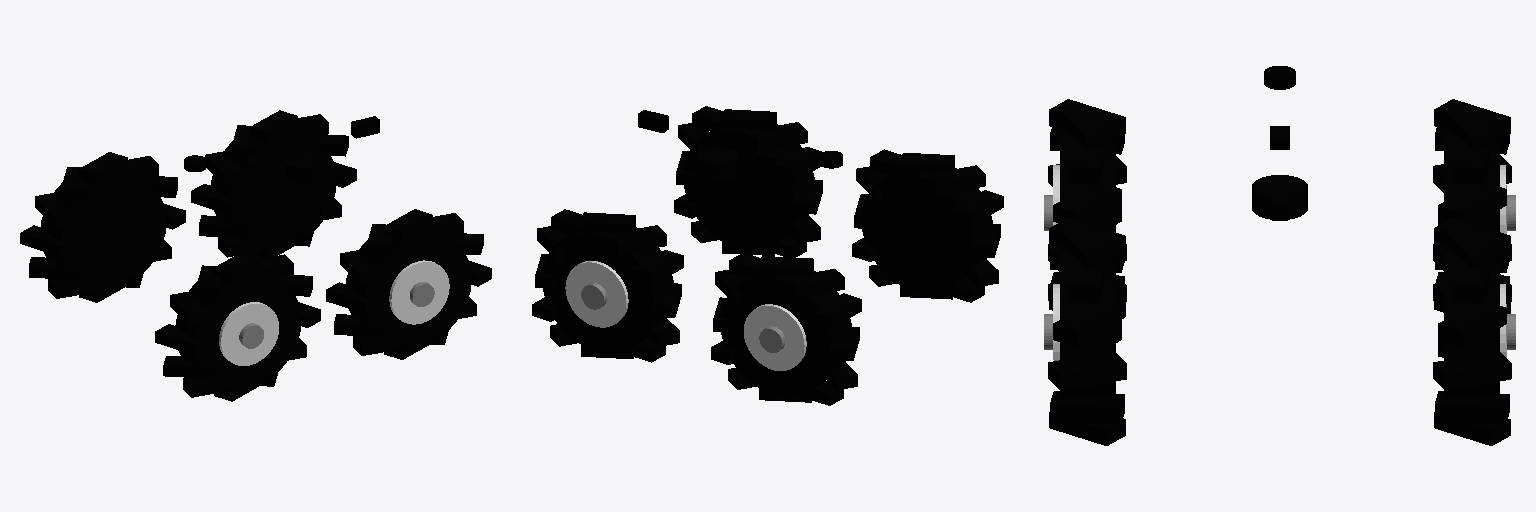
URDF robot description (agrobot):
<?xml version="1.0"?>

<robot name="agrobot">

  <material name="aluminium">
    <color rgba="0.55 0.55 0.55 1"/>
  </material>

  <material name="black">
    <color rgba="0.02 0.02 0.02 1"/>
  </material>

  <material name="white">
    <color rgba="0.85 0.85 0.85 1"/>
  </material>

  <!-- CHASSIS REAL DO CAD -->
  <link name="base_link">
    <visual>
      <origin xyz="-0.5 -0.25 0.05" rpy="0 0 0"/>
      <geometry>
        <mesh filename="file:///home/fabio/husky_ws/src/agrobot_description/meshes/chassis.stl"
              scale="0.001 0.001 0.001"/>
      </geometry>
      <material name="aluminium"/>
    </visual>

    <collision>
      <origin xyz="0 0 0.20"/>
      <geometry>
        <box size="1.2 0.8 0.35"/>
      </geometry>
    </collision>

    <!-- Massa do chassis + estrutura. Total com rodas ≈ 46 kg -->
    <inertial>
      <mass value="37.2"/>
      <origin xyz="0 0 0.20"/>
      <inertia ixx="2" iyy="2" izz="2" ixy="0" ixz="0" iyz="0"/>
    </inertial>
  </link>


  <!-- MACRO VISUAL REPETIDA MANUALMENTE: RODA AGRÍCOLA -->

  <!-- RODA FRENTE ESQUERDA -->
  <link name="front_left_wheel">

    <!-- pneu principal -->
    <visual>
      <origin xyz="0 0 0" rpy="1.5708 0 0"/>
      <geometry>
        <cylinder radius="0.22" length="0.14"/>
      </geometry>
      <material name="black"/>
    </visual>

    <!-- jante branca -->
    <visual>
      <origin xyz="0 0.075 0" rpy="1.5708 0 0"/>
      <geometry>
        <cylinder radius="0.12" length="0.02"/>
      </geometry>
      <material name="white"/>
    </visual>

    <!-- cubo central -->
    <visual>
      <origin xyz="0 0.09 0" rpy="1.5708 0 0"/>
      <geometry>
        <cylinder radius="0.045" length="0.035"/>
      </geometry>
      <material name="aluminium"/>
    </visual>

    <!-- garras agrícolas -->
    <visual><origin xyz="0.23 0 0" rpy="0 0 0.40"/><geometry><box size="0.08 0.18 0.045"/></geometry><material name="black"/></visual>
    <visual><origin xyz="0.199 0 0.115" rpy="0 0 0.92"/><geometry><box size="0.08 0.18 0.045"/></geometry><material name="black"/></visual>
    <visual><origin xyz="0.115 0 0.199" rpy="0 0 1.45"/><geometry><box size="0.08 0.18 0.045"/></geometry><material name="black"/></visual>
    <visual><origin xyz="0 0 0.23" rpy="0 0 1.97"/><geometry><box size="0.08 0.18 0.045"/></geometry><material name="black"/></visual>
    <visual><origin xyz="-0.115 0 0.199" rpy="0 0 2.50"/><geometry><box size="0.08 0.18 0.045"/></geometry><material name="black"/></visual>
    <visual><origin xyz="-0.199 0 0.115" rpy="0 0 3.02"/><geometry><box size="0.08 0.18 0.045"/></geometry><material name="black"/></visual>
    <visual><origin xyz="-0.23 0 0" rpy="0 0 3.54"/><geometry><box size="0.08 0.18 0.045"/></geometry><material name="black"/></visual>
    <visual><origin xyz="-0.199 0 -0.115" rpy="0 0 4.07"/><geometry><box size="0.08 0.18 0.045"/></geometry><material name="black"/></visual>
    <visual><origin xyz="-0.115 0 -0.199" rpy="0 0 4.59"/><geometry><box size="0.08 0.18 0.045"/></geometry><material name="black"/></visual>
    <visual><origin xyz="0 0 -0.23" rpy="0 0 5.12"/><geometry><box size="0.08 0.18 0.045"/></geometry><material name="black"/></visual>
    <visual><origin xyz="0.115 0 -0.199" rpy="0 0 5.64"/><geometry><box size="0.08 0.18 0.045"/></geometry><material name="black"/></visual>
    <visual><origin xyz="0.199 0 -0.115" rpy="0 0 6.16"/><geometry><box size="0.08 0.18 0.045"/></geometry><material name="black"/></visual>

    <collision>
      <origin xyz="0 0 0" rpy="1.5708 0 0"/>
      <geometry>
        <cylinder radius="0.22" length="0.14"/>
      </geometry>
    </collision>

    <inertial>
      <mass value="2.2"/>
      <origin xyz="0 0 0"/>
      <inertia ixx="0.04" iyy="0.04" izz="0.04" ixy="0" ixz="0" iyz="0"/>
    </inertial>
  </link>

  <joint name="front_left_wheel_joint" type="continuous">
    <parent link="base_link"/>
    <child link="front_left_wheel"/>
    <origin xyz="0.35 0.48 -0.02" rpy="0 0 0"/>
    <axis xyz="0 1 0"/>
    <limit effort="100" velocity="20"/>
  </joint>


  <!-- RODA FRENTE DIREITA -->
  <link name="front_right_wheel">
    <visual><origin xyz="0 0 0" rpy="1.5708 0 0"/><geometry><cylinder radius="0.22" length="0.14"/></geometry><material name="black"/></visual>
    <visual><origin xyz="0 -0.075 0" rpy="1.5708 0 0"/><geometry><cylinder radius="0.12" length="0.02"/></geometry><material name="white"/></visual>
    <visual><origin xyz="0 -0.09 0" rpy="1.5708 0 0"/><geometry><cylinder radius="0.045" length="0.035"/></geometry><material name="aluminium"/></visual>

    <visual><origin xyz="0.23 0 0" rpy="0 0 0.40"/><geometry><box size="0.08 0.18 0.045"/></geometry><material name="black"/></visual>
    <visual><origin xyz="0.199 0 0.115" rpy="0 0 0.92"/><geometry><box size="0.08 0.18 0.045"/></geometry><material name="black"/></visual>
    <visual><origin xyz="0.115 0 0.199" rpy="0 0 1.45"/><geometry><box size="0.08 0.18 0.045"/></geometry><material name="black"/></visual>
    <visual><origin xyz="0 0 0.23" rpy="0 0 1.97"/><geometry><box size="0.08 0.18 0.045"/></geometry><material name="black"/></visual>
    <visual><origin xyz="-0.115 0 0.199" rpy="0 0 2.50"/><geometry><box size="0.08 0.18 0.045"/></geometry><material name="black"/></visual>
    <visual><origin xyz="-0.199 0 0.115" rpy="0 0 3.02"/><geometry><box size="0.08 0.18 0.045"/></geometry><material name="black"/></visual>
    <visual><origin xyz="-0.23 0 0" rpy="0 0 3.54"/><geometry><box size="0.08 0.18 0.045"/></geometry><material name="black"/></visual>
    <visual><origin xyz="-0.199 0 -0.115" rpy="0 0 4.07"/><geometry><box size="0.08 0.18 0.045"/></geometry><material name="black"/></visual>
    <visual><origin xyz="-0.115 0 -0.199" rpy="0 0 4.59"/><geometry><box size="0.08 0.18 0.045"/></geometry><material name="black"/></visual>
    <visual><origin xyz="0 0 -0.23" rpy="0 0 5.12"/><geometry><box size="0.08 0.18 0.045"/></geometry><material name="black"/></visual>
    <visual><origin xyz="0.115 0 -0.199" rpy="0 0 5.64"/><geometry><box size="0.08 0.18 0.045"/></geometry><material name="black"/></visual>
    <visual><origin xyz="0.199 0 -0.115" rpy="0 0 6.16"/><geometry><box size="0.08 0.18 0.045"/></geometry><material name="black"/></visual>

    <collision><origin xyz="0 0 0" rpy="1.5708 0 0"/><geometry><cylinder radius="0.22" length="0.14"/></geometry></collision>
    <inertial><mass value="2.2"/><origin xyz="0 0 0"/><inertia ixx="0.04" iyy="0.04" izz="0.04" ixy="0" ixz="0" iyz="0"/></inertial>
  </link>

  <joint name="front_right_wheel_joint" type="continuous">
    <parent link="base_link"/>
    <child link="front_right_wheel"/>
    <origin xyz="0.35 -0.48 -0.02" rpy="0 0 0"/>
    <axis xyz="0 1 0"/>
    <limit effort="100" velocity="20"/>
  </joint>


  <!-- RODA TRÁS ESQUERDA -->
  <link name="rear_left_wheel">
    <visual><origin xyz="0 0 0" rpy="1.5708 0 0"/><geometry><cylinder radius="0.22" length="0.14"/></geometry><material name="black"/></visual>
    <visual><origin xyz="0 0.075 0" rpy="1.5708 0 0"/><geometry><cylinder radius="0.12" length="0.02"/></geometry><material name="white"/></visual>
    <visual><origin xyz="0 0.09 0" rpy="1.5708 0 0"/><geometry><cylinder radius="0.045" length="0.035"/></geometry><material name="aluminium"/></visual>

    <visual><origin xyz="0.23 0 0" rpy="0 0 0.40"/><geometry><box size="0.08 0.18 0.045"/></geometry><material name="black"/></visual>
    <visual><origin xyz="0.199 0 0.115" rpy="0 0 0.92"/><geometry><box size="0.08 0.18 0.045"/></geometry><material name="black"/></visual>
    <visual><origin xyz="0.115 0 0.199" rpy="0 0 1.45"/><geometry><box size="0.08 0.18 0.045"/></geometry><material name="black"/></visual>
    <visual><origin xyz="0 0 0.23" rpy="0 0 1.97"/><geometry><box size="0.08 0.18 0.045"/></geometry><material name="black"/></visual>
    <visual><origin xyz="-0.115 0 0.199" rpy="0 0 2.50"/><geometry><box size="0.08 0.18 0.045"/></geometry><material name="black"/></visual>
    <visual><origin xyz="-0.199 0 0.115" rpy="0 0 3.02"/><geometry><box size="0.08 0.18 0.045"/></geometry><material name="black"/></visual>
    <visual><origin xyz="-0.23 0 0" rpy="0 0 3.54"/><geometry><box size="0.08 0.18 0.045"/></geometry><material name="black"/></visual>
    <visual><origin xyz="-0.199 0 -0.115" rpy="0 0 4.07"/><geometry><box size="0.08 0.18 0.045"/></geometry><material name="black"/></visual>
    <visual><origin xyz="-0.115 0 -0.199" rpy="0 0 4.59"/><geometry><box size="0.08 0.18 0.045"/></geometry><material name="black"/></visual>
    <visual><origin xyz="0 0 -0.23" rpy="0 0 5.12"/><geometry><box size="0.08 0.18 0.045"/></geometry><material name="black"/></visual>
    <visual><origin xyz="0.115 0 -0.199" rpy="0 0 5.64"/><geometry><box size="0.08 0.18 0.045"/></geometry><material name="black"/></visual>
    <visual><origin xyz="0.199 0 -0.115" rpy="0 0 6.16"/><geometry><box size="0.08 0.18 0.045"/></geometry><material name="black"/></visual>

    <collision><origin xyz="0 0 0" rpy="1.5708 0 0"/><geometry><cylinder radius="0.22" length="0.14"/></geometry></collision>
    <inertial><mass value="2.2"/><origin xyz="0 0 0"/><inertia ixx="0.04" iyy="0.04" izz="0.04" ixy="0" ixz="0" iyz="0"/></inertial>
  </link>

  <joint name="rear_left_wheel_joint" type="continuous">
    <parent link="base_link"/>
    <child link="rear_left_wheel"/>
    <origin xyz="-0.35 0.48 -0.02" rpy="0 0 0"/>
    <axis xyz="0 1 0"/>
    <limit effort="100" velocity="20"/>
  </joint>


  <!-- RODA TRÁS DIREITA -->
  <link name="rear_right_wheel">
    <visual><origin xyz="0 0 0" rpy="1.5708 0 0"/><geometry><cylinder radius="0.22" length="0.14"/></geometry><material name="black"/></visual>
    <visual><origin xyz="0 -0.075 0" rpy="1.5708 0 0"/><geometry><cylinder radius="0.12" length="0.02"/></geometry><material name="white"/></visual>
    <visual><origin xyz="0 -0.09 0" rpy="1.5708 0 0"/><geometry><cylinder radius="0.045" length="0.035"/></geometry><material name="aluminium"/></visual>

    <visual><origin xyz="0.23 0 0" rpy="0 0 0.40"/><geometry><box size="0.08 0.18 0.045"/></geometry><material name="black"/></visual>
    <visual><origin xyz="0.199 0 0.115" rpy="0 0 0.92"/><geometry><box size="0.08 0.18 0.045"/></geometry><material name="black"/></visual>
    <visual><origin xyz="0.115 0 0.199" rpy="0 0 1.45"/><geometry><box size="0.08 0.18 0.045"/></geometry><material name="black"/></visual>
    <visual><origin xyz="0 0 0.23" rpy="0 0 1.97"/><geometry><box size="0.08 0.18 0.045"/></geometry><material name="black"/></visual>
    <visual><origin xyz="-0.115 0 0.199" rpy="0 0 2.50"/><geometry><box size="0.08 0.18 0.045"/></geometry><material name="black"/></visual>
    <visual><origin xyz="-0.199 0 0.115" rpy="0 0 3.02"/><geometry><box size="0.08 0.18 0.045"/></geometry><material name="black"/></visual>
    <visual><origin xyz="-0.23 0 0" rpy="0 0 3.54"/><geometry><box size="0.08 0.18 0.045"/></geometry><material name="black"/></visual>
    <visual><origin xyz="-0.199 0 -0.115" rpy="0 0 4.07"/><geometry><box size="0.08 0.18 0.045"/></geometry><material name="black"/></visual>
    <visual><origin xyz="-0.115 0 -0.199" rpy="0 0 4.59"/><geometry><box size="0.08 0.18 0.045"/></geometry><material name="black"/></visual>
    <visual><origin xyz="0 0 -0.23" rpy="0 0 5.12"/><geometry><box size="0.08 0.18 0.045"/></geometry><material name="black"/></visual>
    <visual><origin xyz="0.115 0 -0.199" rpy="0 0 5.64"/><geometry><box size="0.08 0.18 0.045"/></geometry><material name="black"/></visual>
    <visual><origin xyz="0.199 0 -0.115" rpy="0 0 6.16"/><geometry><box size="0.08 0.18 0.045"/></geometry><material name="black"/></visual>

    <collision><origin xyz="0 0 0" rpy="1.5708 0 0"/><geometry><cylinder radius="0.22" length="0.14"/></geometry></collision>
    <inertial><mass value="2.2"/><origin xyz="0 0 0"/><inertia ixx="0.04" iyy="0.04" izz="0.04" ixy="0" ixz="0" iyz="0"/></inertial>
  </link>

  <joint name="rear_right_wheel_joint" type="continuous">
    <parent link="base_link"/>
    <child link="rear_right_wheel"/>
    <origin xyz="-0.35 -0.48 -0.02" rpy="0 0 0"/>
    <axis xyz="0 1 0"/>
    <limit effort="100" velocity="20"/>
  </joint>


  <gazebo>
    <plugin filename="gz-sim-diff-drive-system"
            name="gz::sim::systems::DiffDrive">

      <left_joint>front_left_wheel_joint</left_joint>
      <left_joint>rear_left_wheel_joint</left_joint>

      <right_joint>front_right_wheel_joint</right_joint>
      <right_joint>rear_right_wheel_joint</right_joint>

      <wheel_separation>0.96</wheel_separation>
      <wheel_radius>0.22</wheel_radius>

      <topic>/cmd_vel</topic>
      <odom_topic>/odom</odom_topic>
      <frame_id>odom</frame_id>
      <child_frame_id>base_link</child_frame_id>

    </plugin>
  </gazebo>

    <!-- SENSOR: IMU -->
  <link name="imu_link">
    <visual>
      <origin xyz="0 0 0"/>
      <geometry>
        <box size="0.08 0.05 0.03"/>
      </geometry>
      <material name="black"/>
    </visual>
  </link>

  <joint name="imu_joint" type="fixed">
    <parent link="base_link"/>
    <child link="imu_link"/>
    <origin xyz="0 0 0.35" rpy="0 0 0"/>
  </joint>


  <!-- SENSOR: GPS -->
  <link name="gps_link">
    <visual>
      <origin xyz="0 0 0"/>
      <geometry>
        <cylinder radius="0.04" length="0.03"/>
      </geometry>
      <material name="black"/>
    </visual>
  </link>

  <joint name="gps_joint" type="fixed">
    <parent link="base_link"/>
    <child link="gps_link"/>
    <origin xyz="-0.25 0 0.40" rpy="0 0 0"/>
  </joint>


  <!-- SENSOR: LIDAR -->
  <link name="lidar_link">
    <visual>
      <origin xyz="0 0 0"/>
      <geometry>
        <cylinder radius="0.07" length="0.06"/>
      </geometry>
      <material name="black"/>
    </visual>
  </link>

  <joint name="lidar_joint" type="fixed">
  <parent link="base_link"/>
  <child link="lidar_link"/>
  <origin xyz="0.20 0 0.28" rpy="0 0 0"/>
  </joint>

  <!-- SENSOR: CAMERA RGB -->
  <link name="camera_link">
    <visual>
      <origin xyz="0 0 0"/>
      <geometry>
        <box size="0.10 0.04 0.05"/>
      </geometry>
      <material name="black"/>
    </visual>
  </link>

  <joint name="camera_joint" type="fixed">
    <parent link="base_link"/>
    <child link="camera_link"/>
    <origin xyz="0.45 0 0.38" rpy="0 0 0"/>
  </joint>

<gazebo reference="lidar_link">
  <sensor name="agrobot_lidar" type="gpu_lidar">
    <topic>/scan</topic>
    <update_rate>10</update_rate>

    <lidar>
      <scan>
        <horizontal>
          <samples>360</samples>
          <resolution>1</resolution>
          <min_angle>-3.1416</min_angle>
          <max_angle>3.1416</max_angle>
        </horizontal>
      </scan>

      <range>
        <min>0.12</min>
        <max>12.0</max>
        <resolution>0.01</resolution>
      </range>
    </lidar>

    <always_on>true</always_on>
    <visualize>true</visualize>
  </sensor>
</gazebo>


</robot>

--- Render facts (derived) ---
3 views of the same robot in one strip: view 1: azimuth 30°, elevation 25°; view 2: azimuth 150°, elevation 25°; view 3: azimuth 270°, elevation 25° (orthographic).
Robot: agrobot — 9 links, 8 joints (4 continuous, 4 fixed); root link base_link; default pose: all joints at 0.
Visible links, largest first — view 1: front_right_wheel, rear_right_wheel, rear_left_wheel, front_left_wheel, lidar_link; view 2: front_left_wheel, rear_right_wheel, rear_left_wheel, front_right_wheel, lidar_link, camera_link; view 3: front_right_wheel, front_left_wheel, rear_left_wheel, rear_right_wheel, lidar_link, gps_link, camera_link.
Boxes of the visible links, bbox=[...] form: front_right_wheel: bbox=[326, 209, 491, 359]; rear_right_wheel: bbox=[155, 250, 320, 401]; rear_left_wheel: bbox=[20, 152, 185, 302]; front_left_wheel: bbox=[191, 110, 356, 257]; lidar_link: bbox=[285, 152, 323, 183]; front_left_wheel: bbox=[532, 209, 683, 362]; rear_right_wheel: bbox=[852, 149, 1003, 302]; rear_left_wheel: bbox=[711, 253, 861, 405]; front_right_wheel: bbox=[674, 106, 822, 257]; lidar_link: bbox=[697, 147, 737, 179]; camera_link: bbox=[638, 110, 668, 132]; front_right_wheel: bbox=[1044, 218, 1126, 445]; front_left_wheel: bbox=[1433, 218, 1515, 445]; rear_left_wheel: bbox=[1433, 99, 1515, 313]; rear_right_wheel: bbox=[1044, 99, 1126, 318]; lidar_link: bbox=[1252, 175, 1307, 219]; gps_link: bbox=[1264, 66, 1295, 89]; camera_link: bbox=[1272, 186, 1287, 220].
Size in the robot's own frame: 1.3 by 1.18 by 0.6875 metres.
Geometry: only primitive shapes (box / cylinder / sphere) drawn; not drawn: 1 mesh visual (reference in a form the renderer does not follow).
